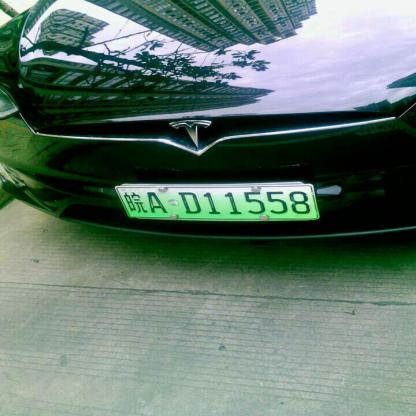lp: (117, 185, 317, 217)
